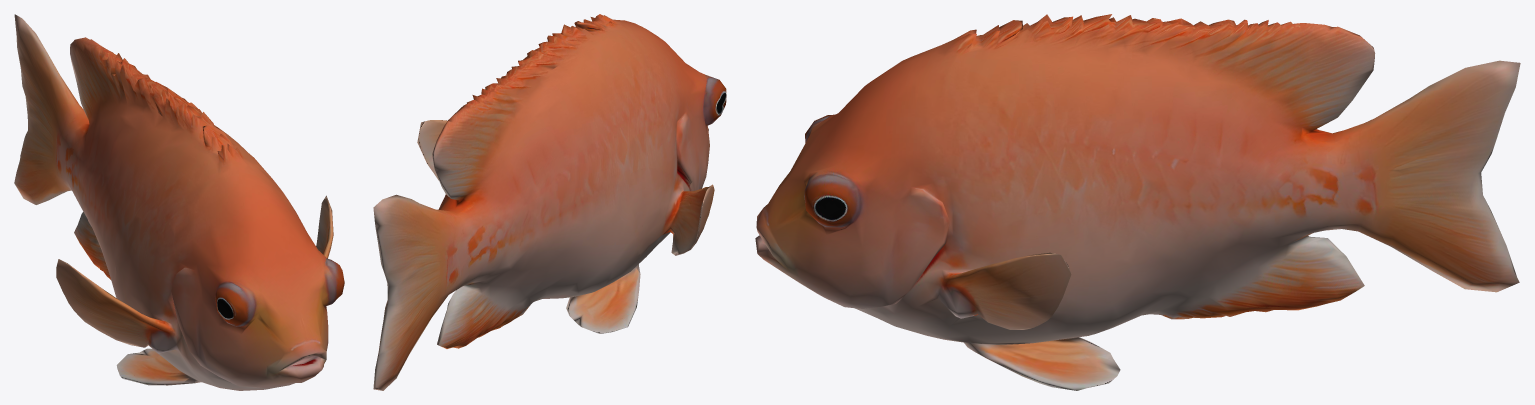
File: fish-orange.glb
The picture shows the model from 3 angles, left to right: view 1: azimuth 30°, elevation 25°; view 2: azimuth 150°, elevation 25°; view 3: azimuth 270°, elevation 25°; orthographic projection. The views are drawn at different scales.
Parts seen in each view (by area): view 1: tripo_node_79a50a1d-2b1c-4589-a370-15ddb7b02efb; view 2: tripo_node_79a50a1d-2b1c-4589-a370-15ddb7b02efb; view 3: tripo_node_79a50a1d-2b1c-4589-a370-15ddb7b02efb.
Boxes of the visible parts, x1,y1,x2,y2 form: tripo_node_79a50a1d-2b1c-4589-a370-15ddb7b02efb: (14, 14, 344, 390); tripo_node_79a50a1d-2b1c-4589-a370-15ddb7b02efb: (373, 14, 726, 390); tripo_node_79a50a1d-2b1c-4589-a370-15ddb7b02efb: (755, 14, 1520, 390).
Size of the model in its own units: 0.5198 by 0.4814 by 1.
Materials: 1 (1 with a texture image).
